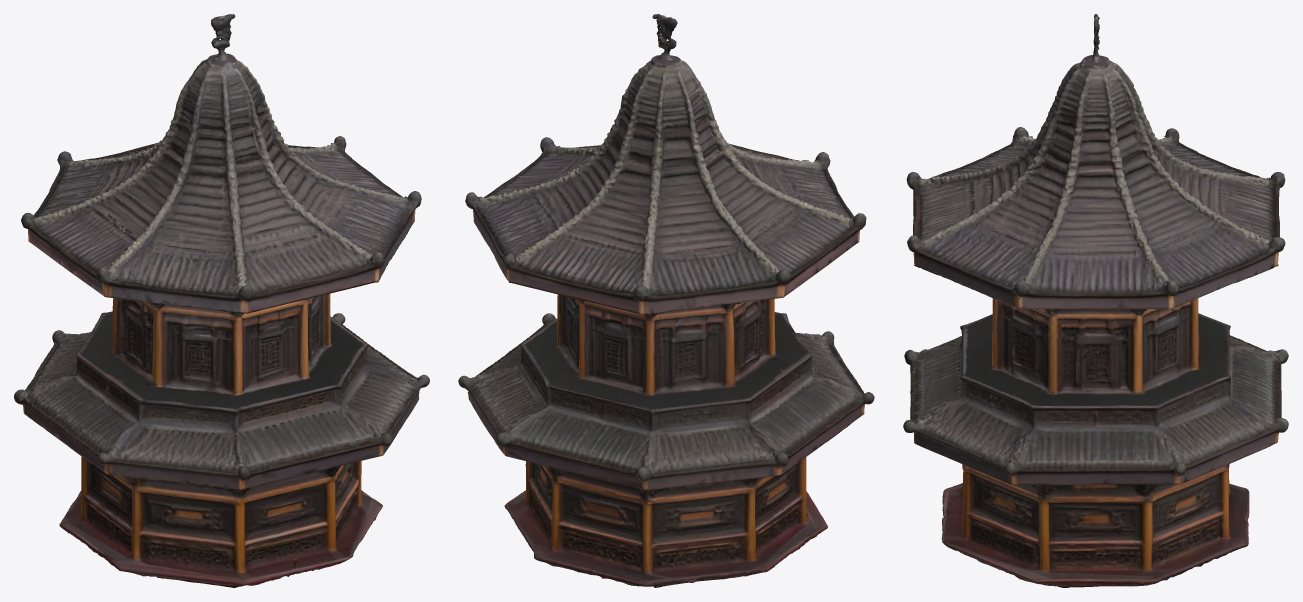
File: bq_granary.hd.glb
3 views of the same model, side by side, from view 1: azimuth 30°, elevation 25°; view 2: azimuth 150°, elevation 25°; view 3: azimuth 270°, elevation 25° (orthographic).
Size of the model in its own units: 1.3 by 1.99 by 1.31.
Materials: 1 (1 with a texture image).
